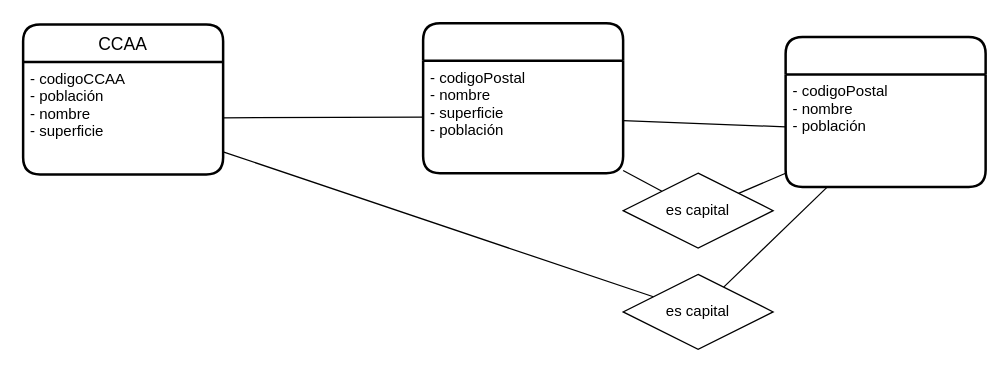
Some shapes in this 1008 by 371 pixel diagram are drawn without their labels. The box of each missing label's shape, as (x1, y1, x2, y2) in pixels:
Localidad: (784, 35, 986, 188)
Provincia: (421, 21, 624, 174)
